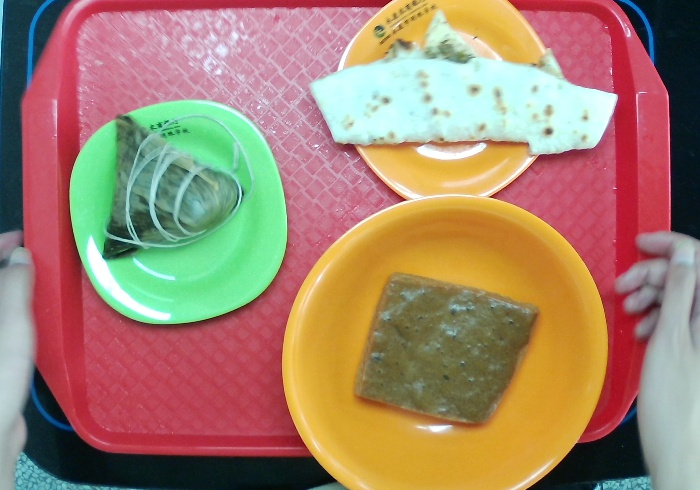YKMZ-Ju_Se_Fang_Die: (331, 1, 565, 207)
YKMZ-Ju_Se_Tang_Wan: (281, 194, 608, 490)
YKMZ-Lv_Se_Fang_Die: (69, 99, 292, 325)
